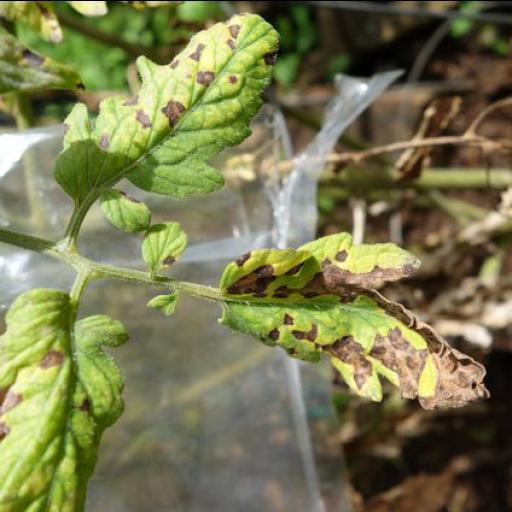disease_tomato: (50, 9, 284, 228), (216, 233, 496, 415), (2, 285, 130, 511)
